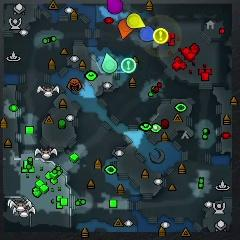Other: (153, 28, 168, 44), (121, 58, 136, 73)
p1: (139, 26, 156, 41)
p2: (101, 52, 118, 74)
p3: (106, 0, 125, 12)
p4: (126, 14, 146, 27)
p5: (119, 19, 132, 40)
